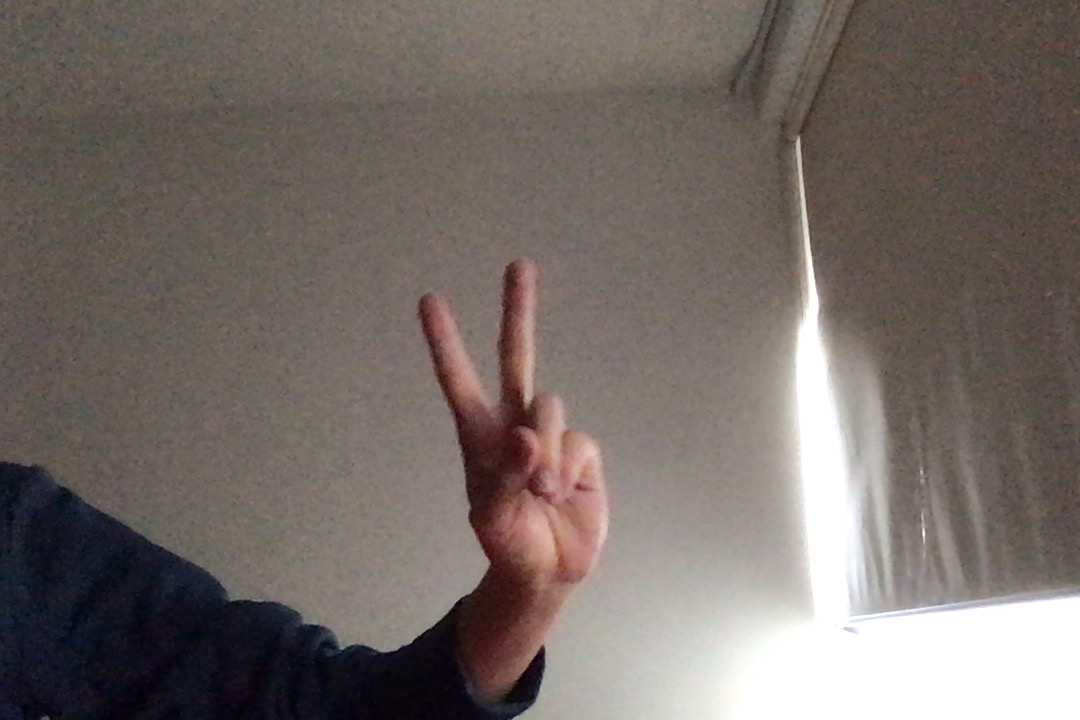peacesign: (411, 251, 617, 599)
